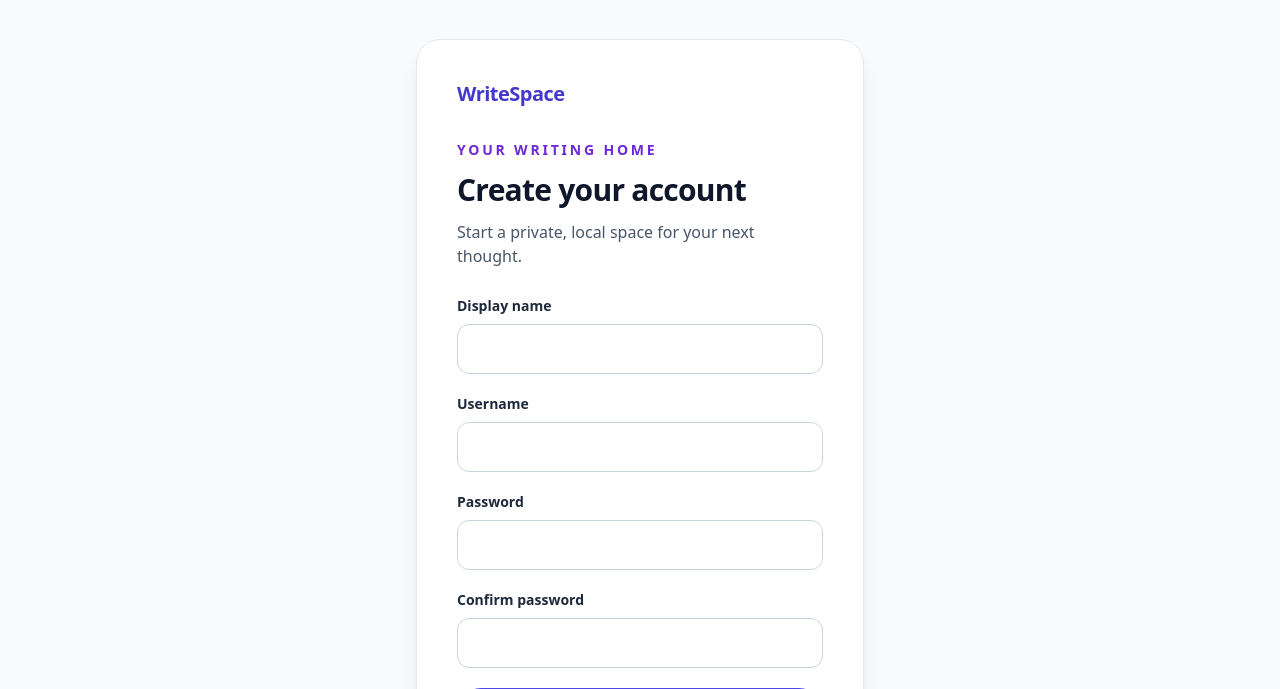
Test: RegisterPage › persists a new user and starts a user session after successful registration
This screenshot has width=1280, height=689.
Step 1. Type "Jane Writer" into the field labelled "Display name" → [640, 349], box top-left (457, 324), bottom-right (823, 374)
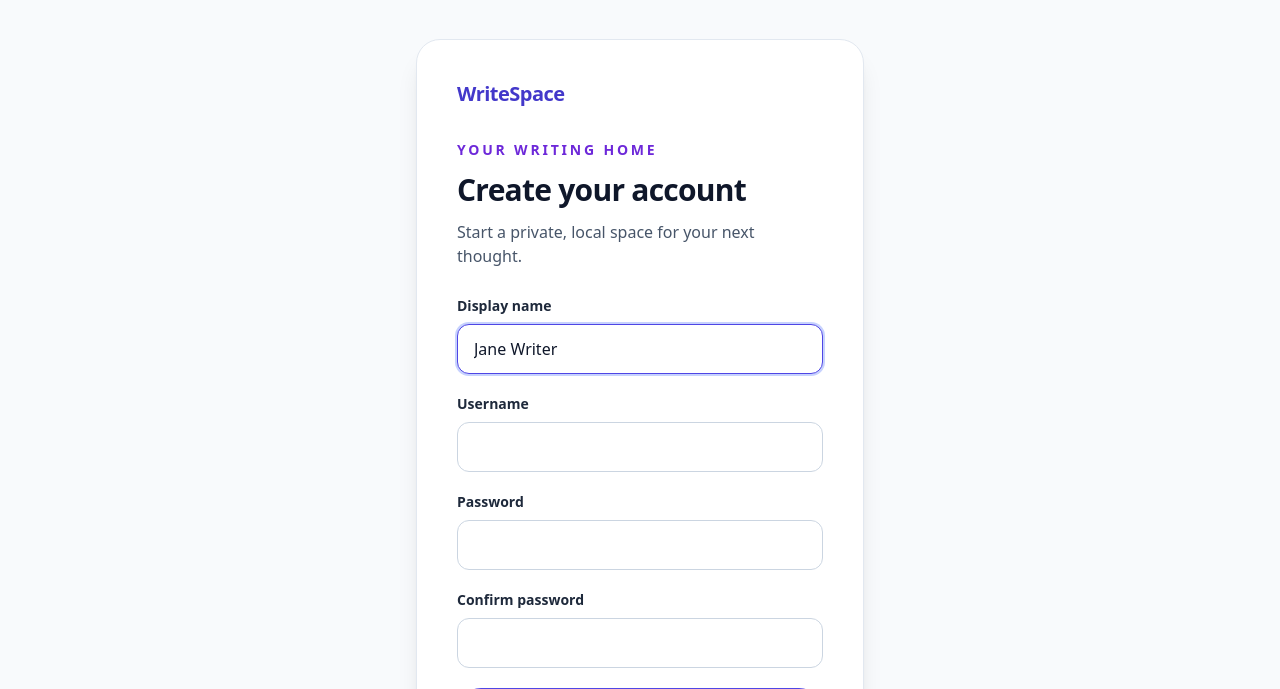
Step 2. Type "jane" into the field labelled "Username" → [640, 447], box top-left (457, 422), bottom-right (823, 472)
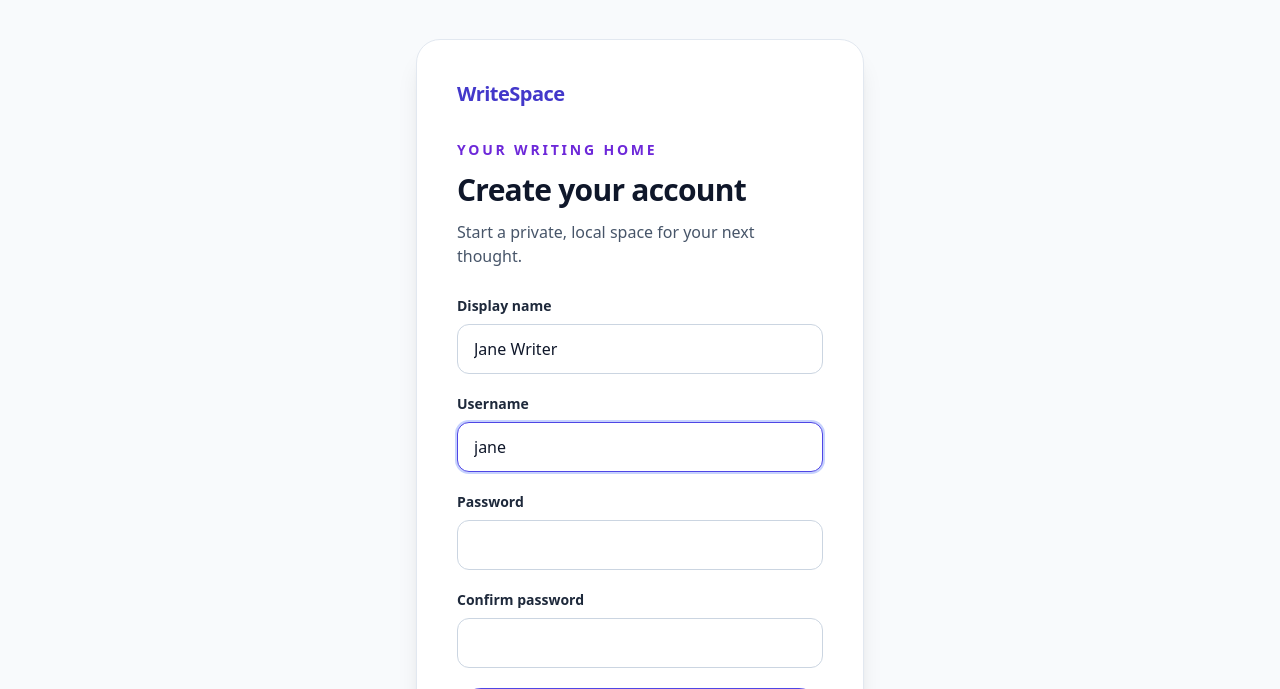
Step 3. Type "secret" into the password field labelled "Password" → [640, 545], box top-left (457, 520), bottom-right (823, 570)
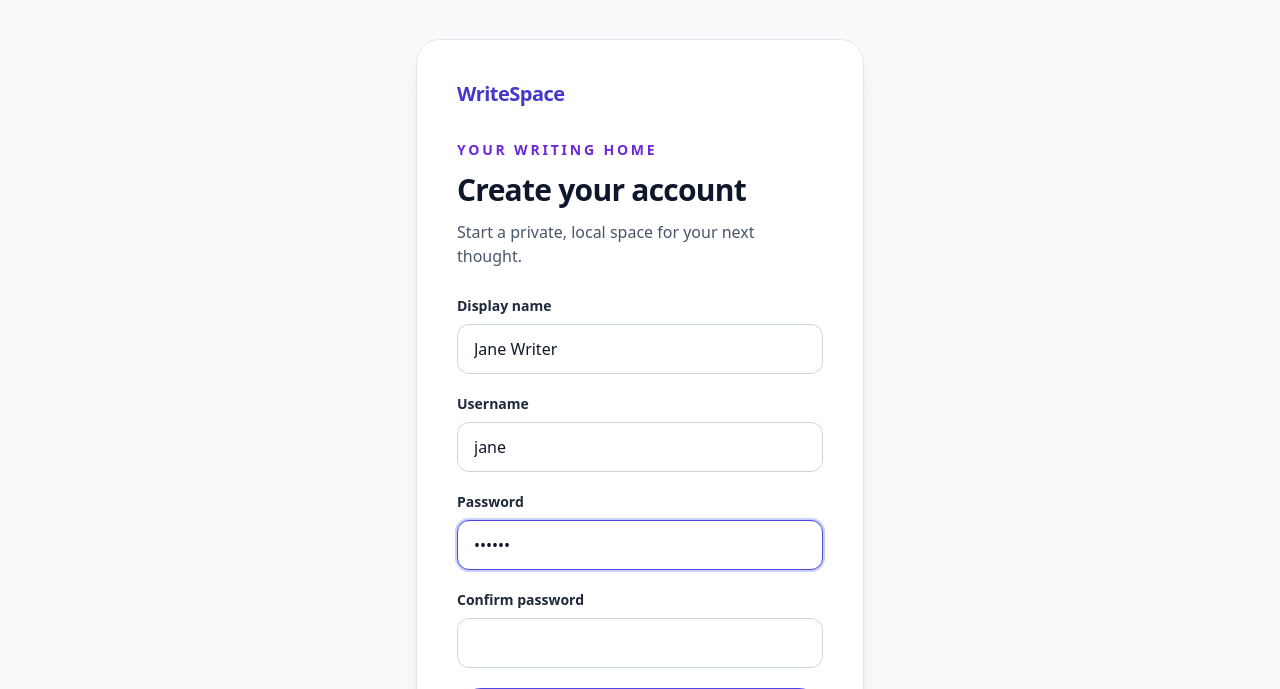
Step 4. Type "secret" into the password field labelled "Confirm password" → [640, 643], box top-left (457, 618), bottom-right (823, 668)
(page scrolled)
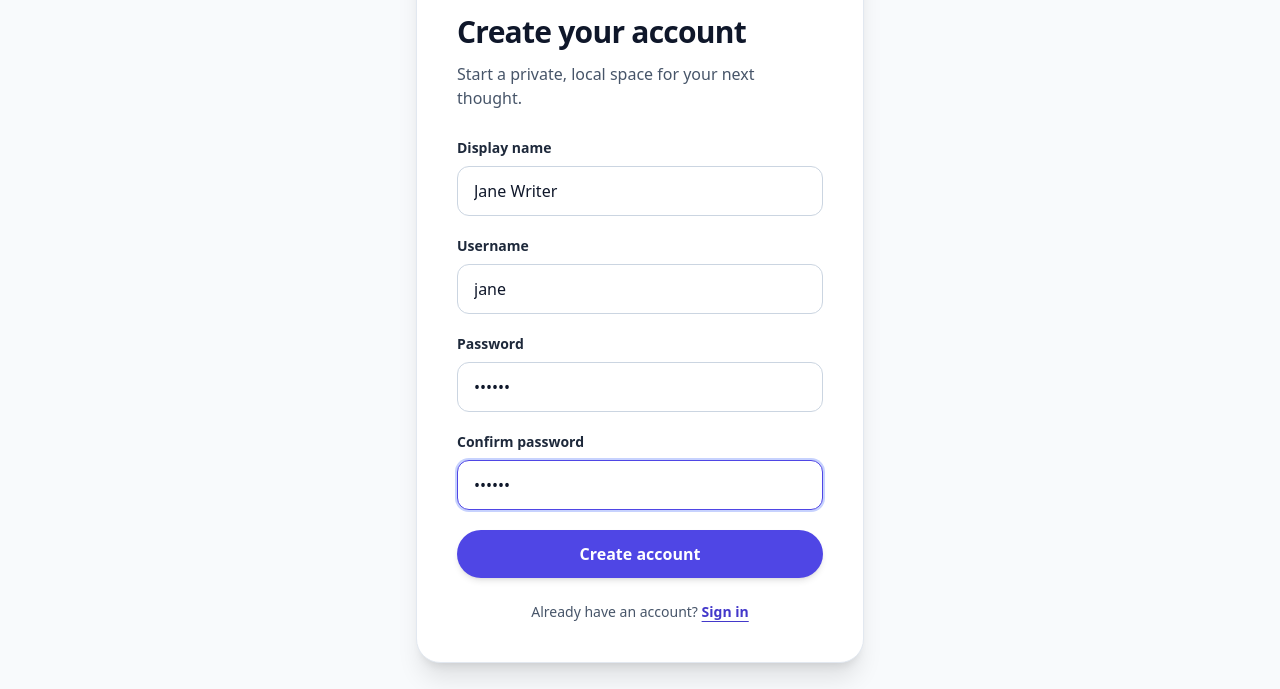
Step 5. Click the button "Create account" → [640, 554], box top-left (457, 530), bottom-right (823, 578)
(page scrolled)
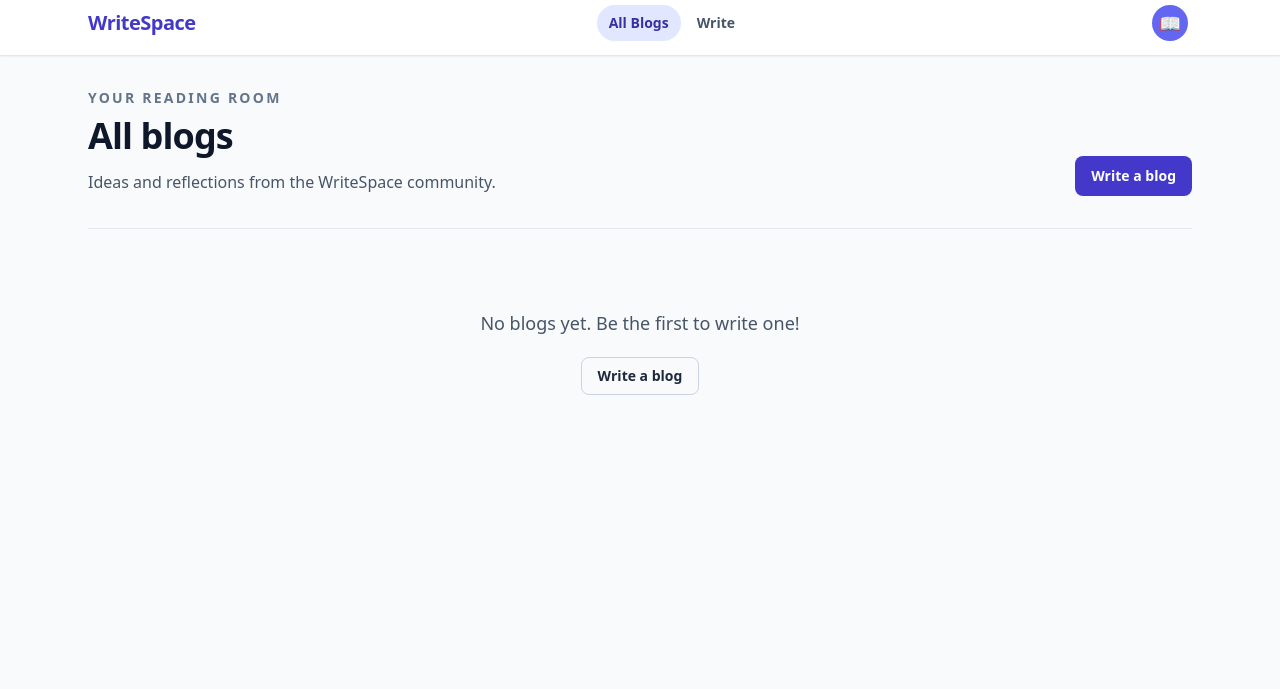
Expected: the heading "All blogs" is shown, top-left (88, 111), bottom-right (233, 160)
